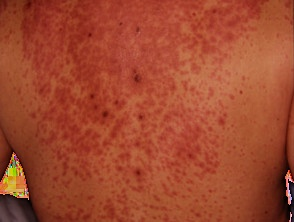SJS-TEN: (10, 1, 278, 219)
